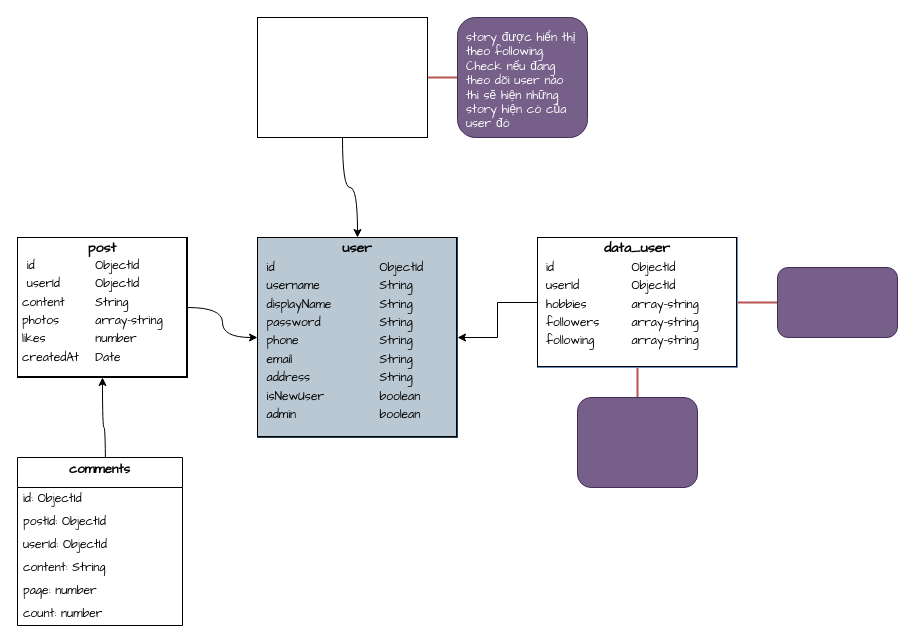
This 915x643 diagram has some shape labels left out. Each missing label, with the centre of its shape:
"followers và following sẽ lưu những id của user và ref đến user đó" goes at point (637, 442).
"hobbies sẽ là 1 mảng chứa những sở thích của user" goes at point (837, 302).
"story id ObjectId userId ObjectId videoUrl String reacts String createdAt Date" goes at point (342, 77).
